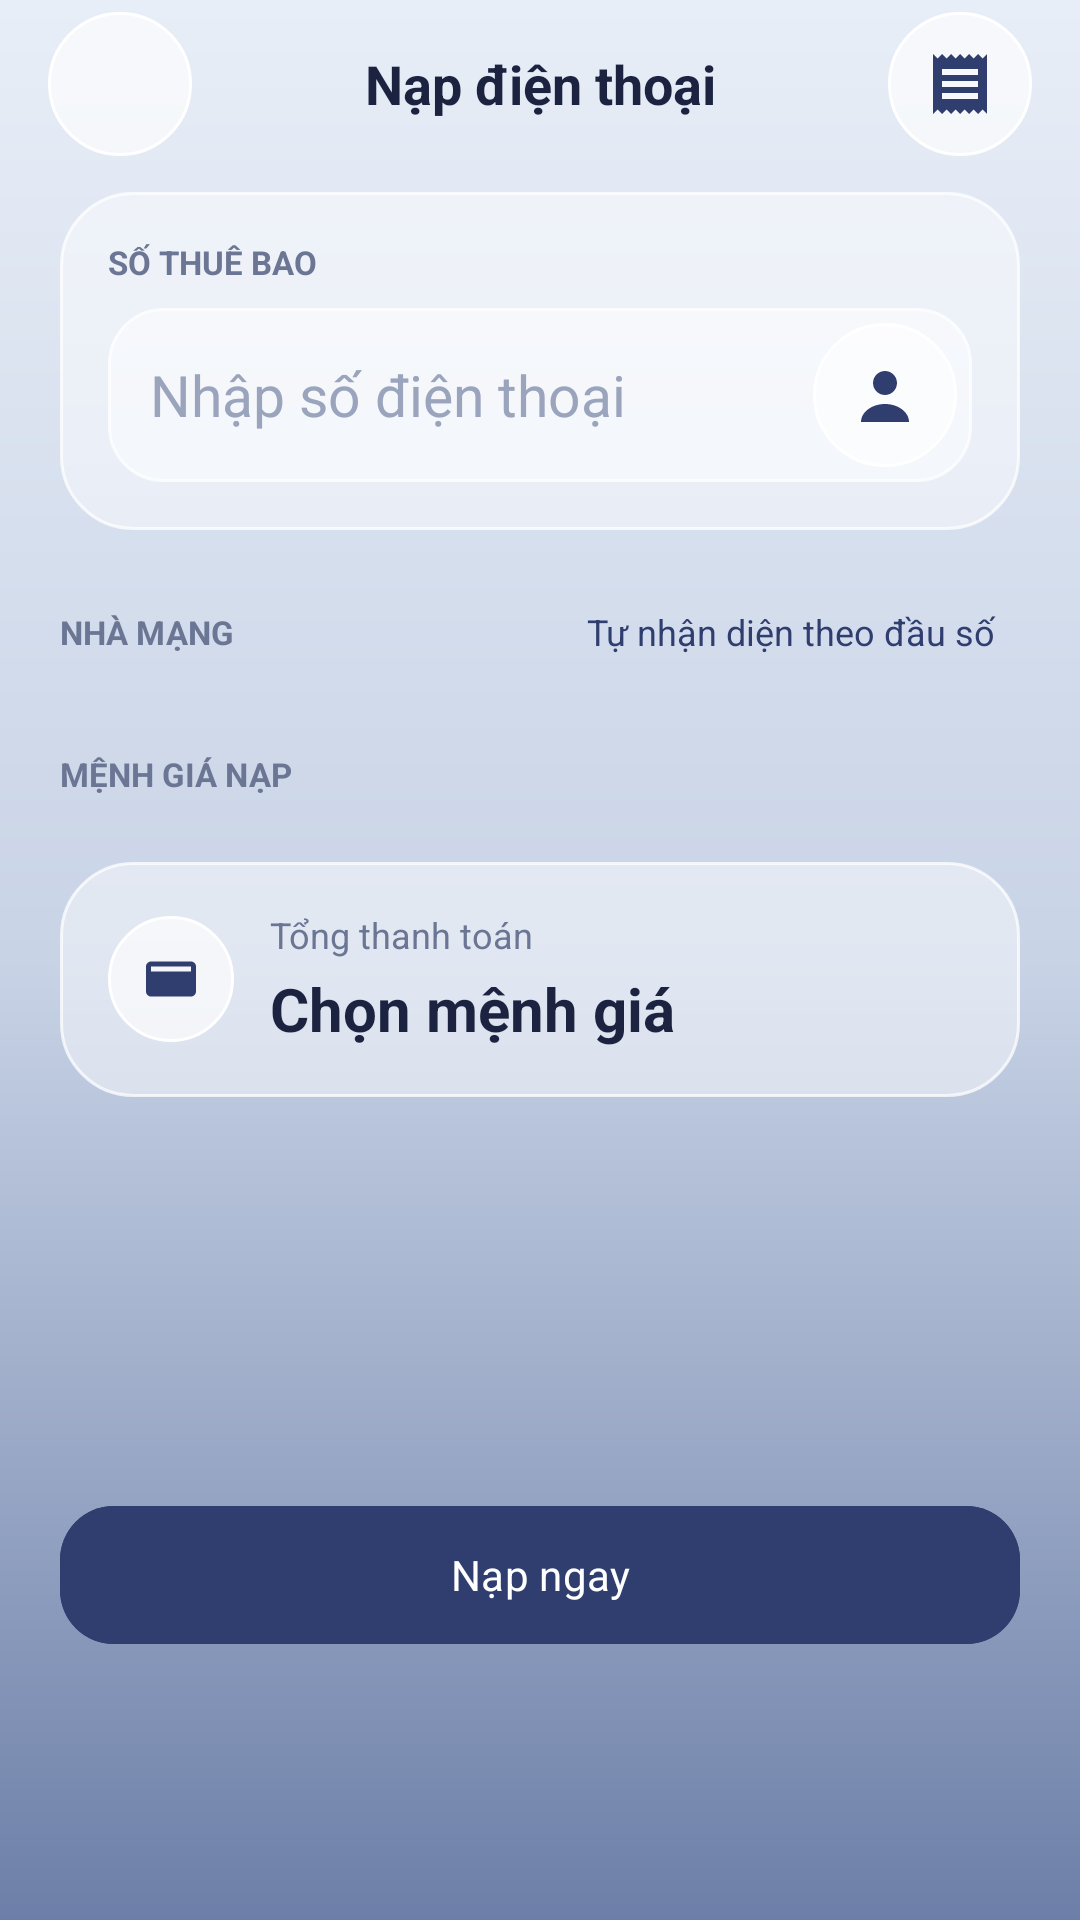

Locate icon controls on the screen. Image size 1080px×1920px, boxes as (x1, y1, x2, y2).
Lịch sử nạp: (888, 12, 1032, 156)
wallet: (108, 916, 234, 1042)
